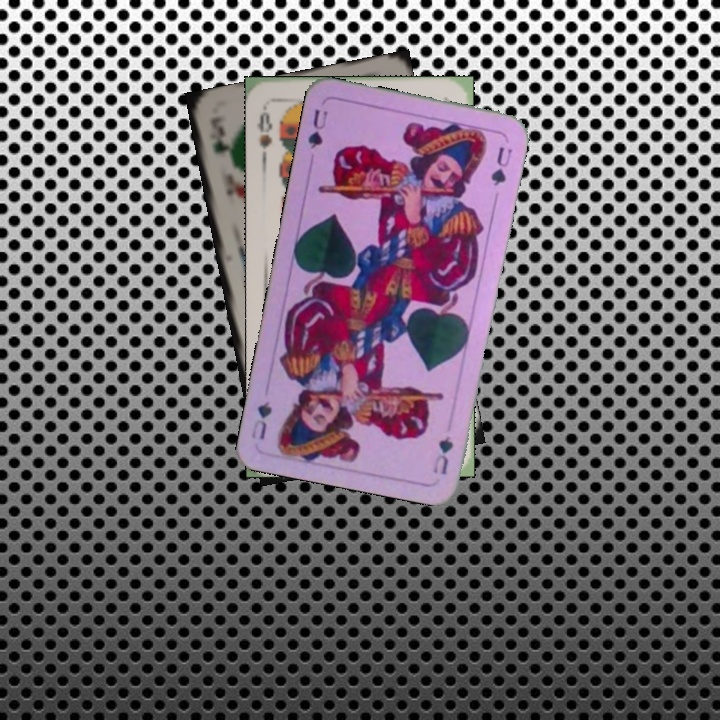GK: (209, 120, 230, 156)
GU: (304, 105, 331, 151), (429, 432, 456, 478)
S8: (253, 102, 275, 151)
